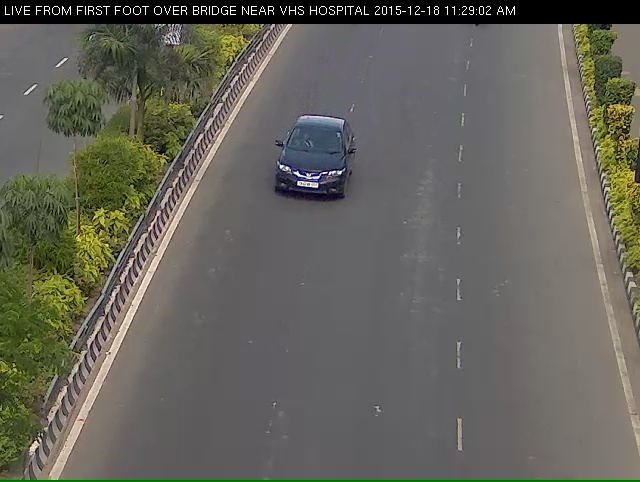Car: (259, 116, 355, 220)
